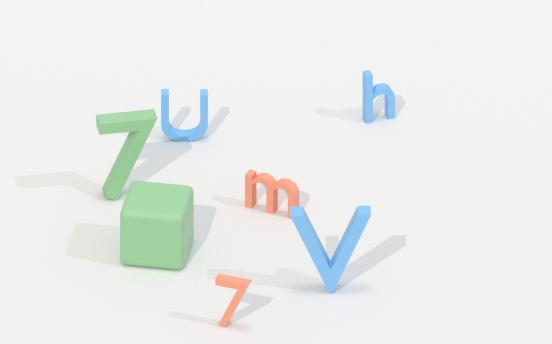7: (93, 108, 158, 203), (212, 270, 255, 331)
h: (357, 67, 397, 126)
hop: (117, 175, 198, 274)
m: (241, 167, 304, 220)
u: (158, 83, 212, 145)
v: (285, 200, 374, 298)
